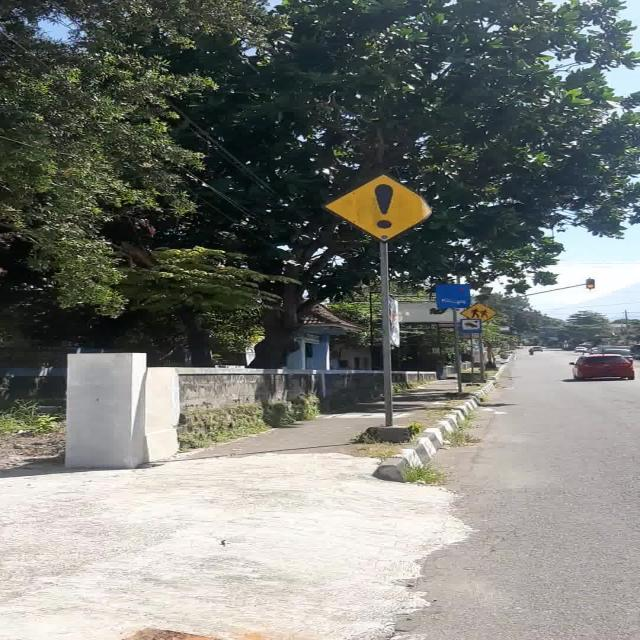Hati-Hati: (322, 172, 432, 244)
